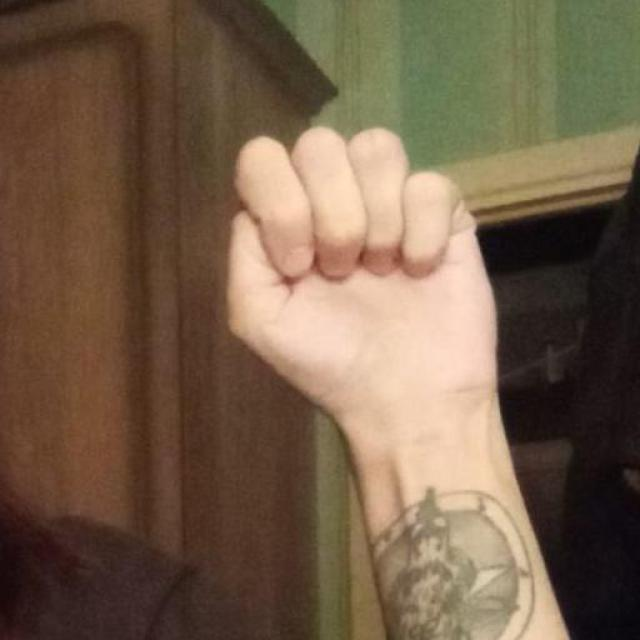hand: (224, 124, 501, 441)
